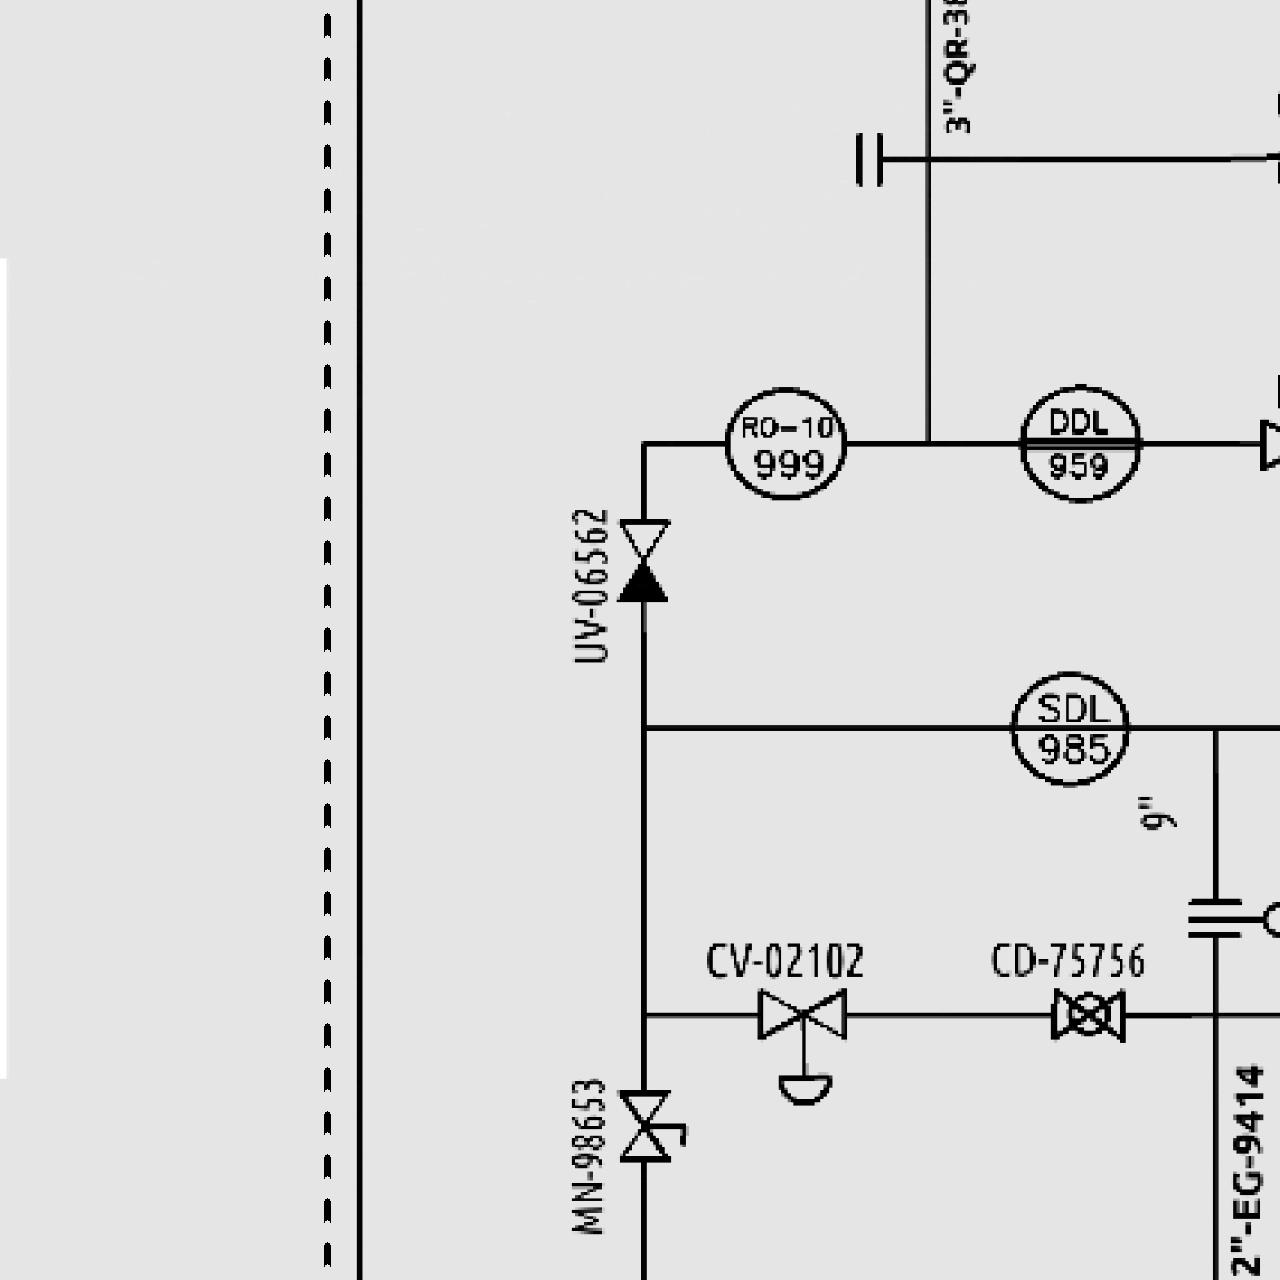Control-Panel: (1014, 377, 1145, 508), (720, 377, 850, 508)
Half closed valve: (611, 515, 673, 606)
